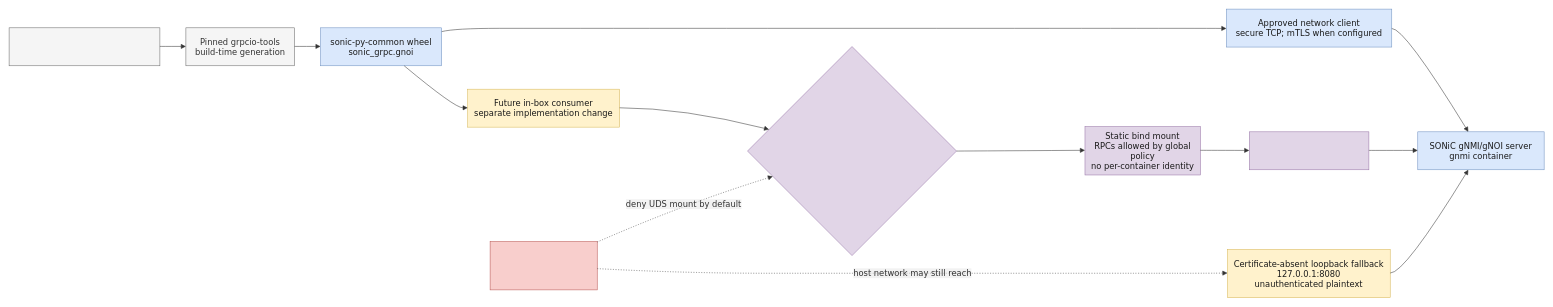
This 1553x307 diagram has some shape labels left out. The centre of each missing label's shape, as x and y in pixels:
/var/run/gnmi/gnmi.sock UDS; user auth bypassed: point 1309,150
Pinned OpenConfig gNOI protos types, common, System, File: point 84,46
Review/build-time UDS admission named consumer + owner threat model + tests: point 852,151
swss / syncd / pmon and other containers no UDS mount: point 543,265
